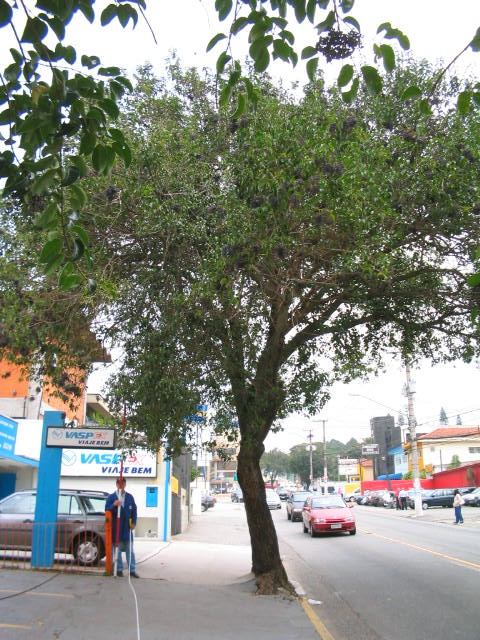crown: (8, 54, 478, 458)
stem: (222, 450, 296, 590)
stick: (107, 399, 134, 578)
tree: (4, 51, 480, 593)
